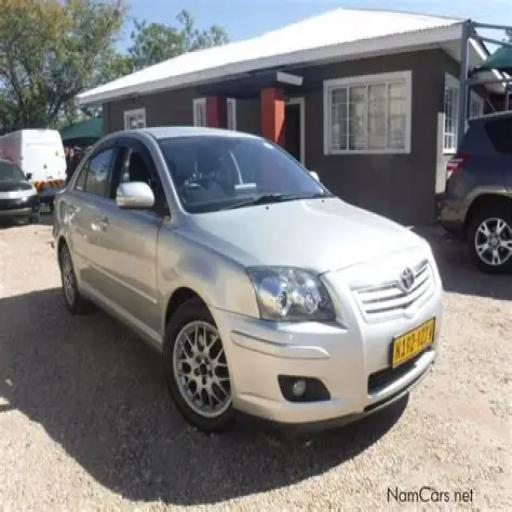number-plates: (391, 322, 436, 354)
